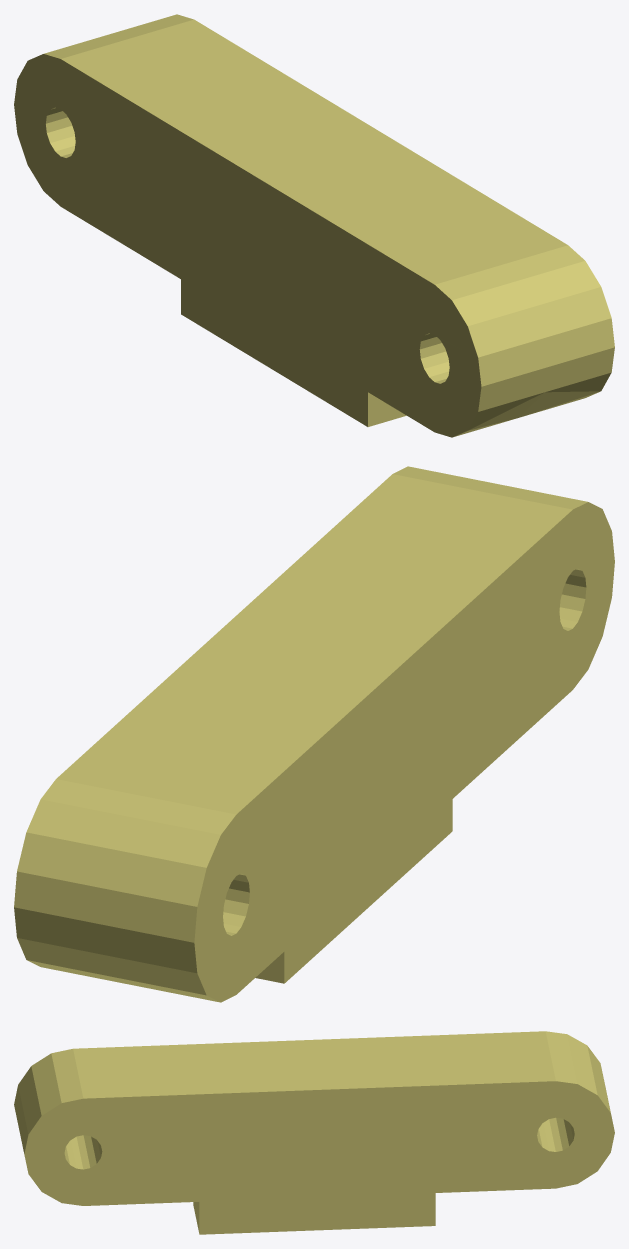
Rendered from LARM_RING3_LINK_mesh.dae.
3 views of the same model, one above another, from view 1: azimuth 30°, elevation 25°; view 2: azimuth 150°, elevation 25°; view 3: azimuth 270°, elevation 25° (orthographic). The views are drawn at different scales.
Parts seen in each view (by area): view 1: LARM_RING3_LINK; view 2: LARM_RING3_LINK; view 3: LARM_RING3_LINK.
Part boxes in pixels (x1,y1,x2,y2): LARM_RING3_LINK: [14, 14, 614, 437]; LARM_RING3_LINK: [14, 466, 614, 1002]; LARM_RING3_LINK: [14, 1031, 614, 1234].
Size of the model in its own units: 0.0143 by 0.014 by 0.0507.
